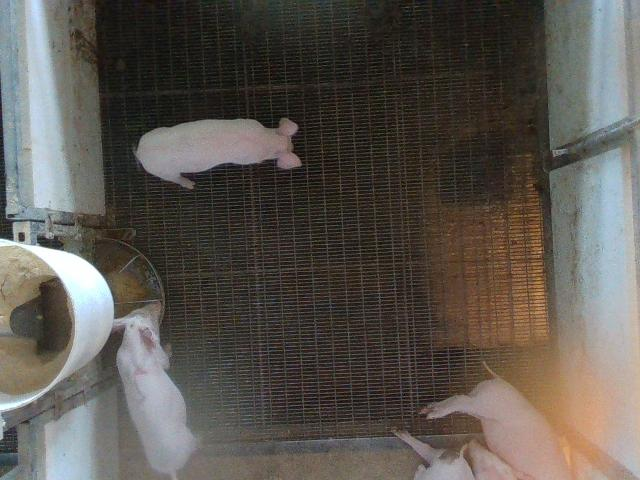pig-5: (113, 302, 196, 478)
